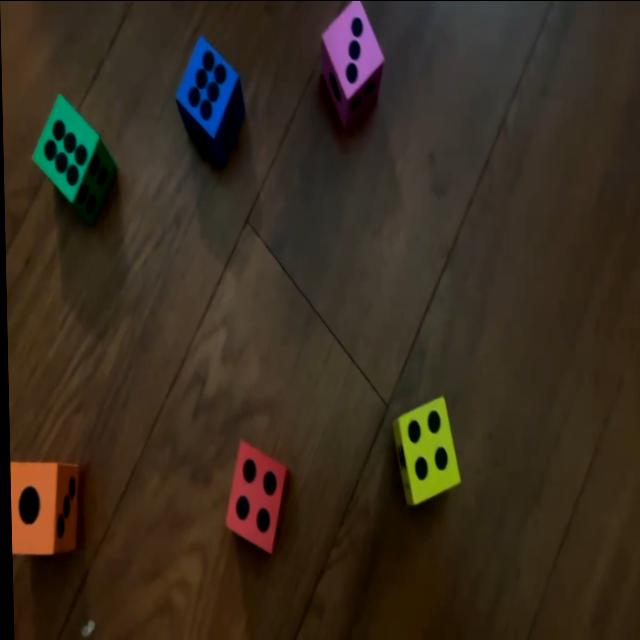blue_block: (174, 32, 244, 166)
red_block: (223, 438, 289, 552)
